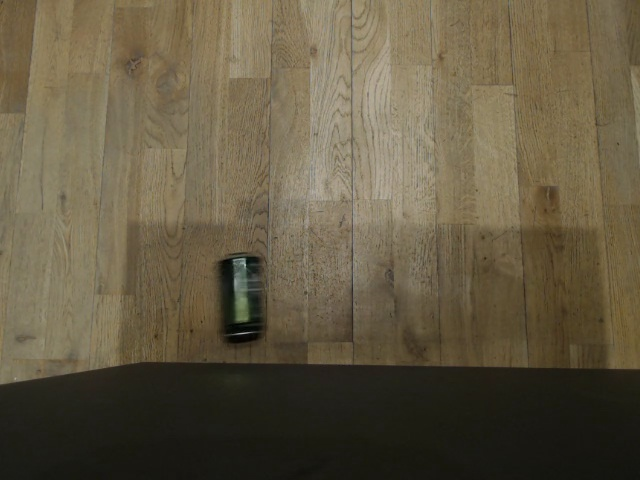beer: (248, 0, 305, 78), (140, 319, 229, 366), (447, 327, 543, 369)
